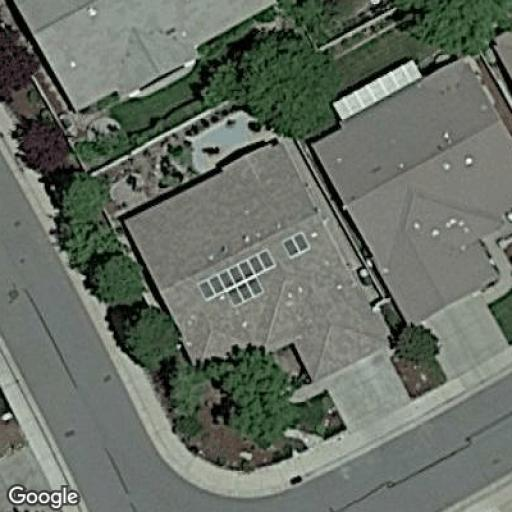solar-panel: (198, 250, 276, 308), (280, 228, 312, 261)
